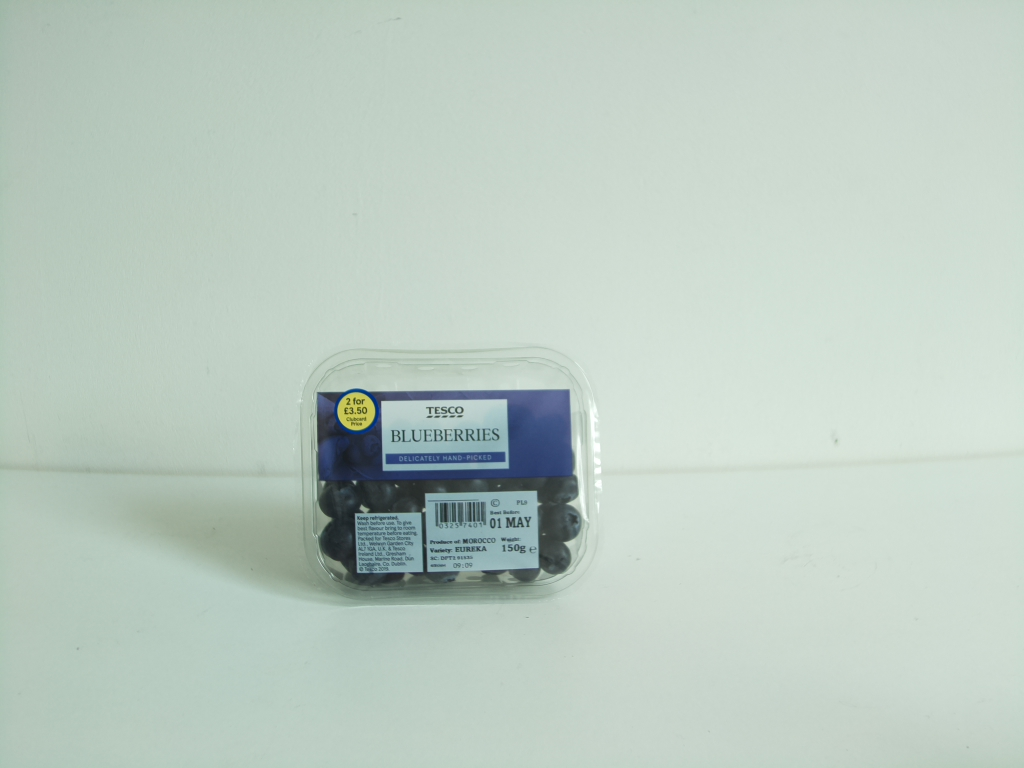soft-fruit: (294, 347, 605, 605)
